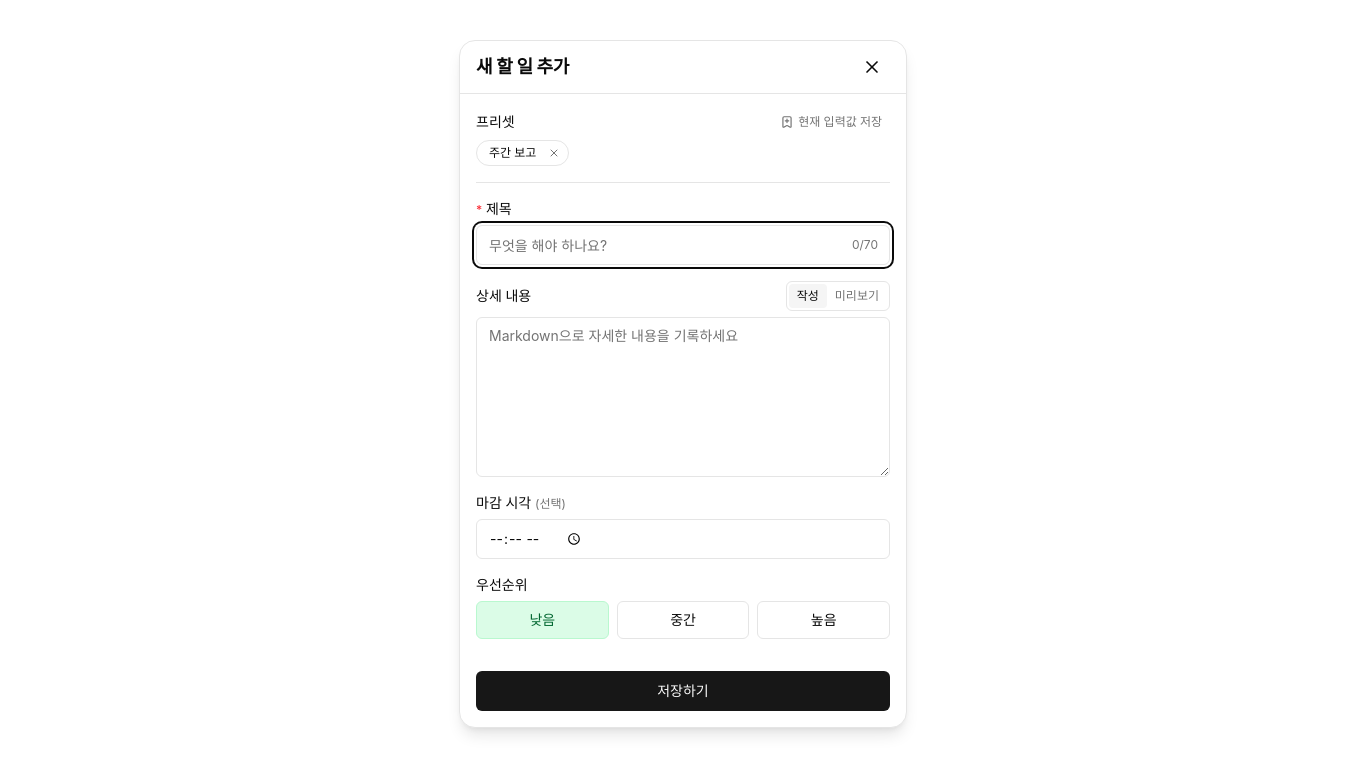
Test: TodoFormModal › 프리셋 › 프리셋을 선택하면 제목·내용이 채워진다
Click the button with test id "preset-chip".
click(511, 153)  # box [477,141,544,165]
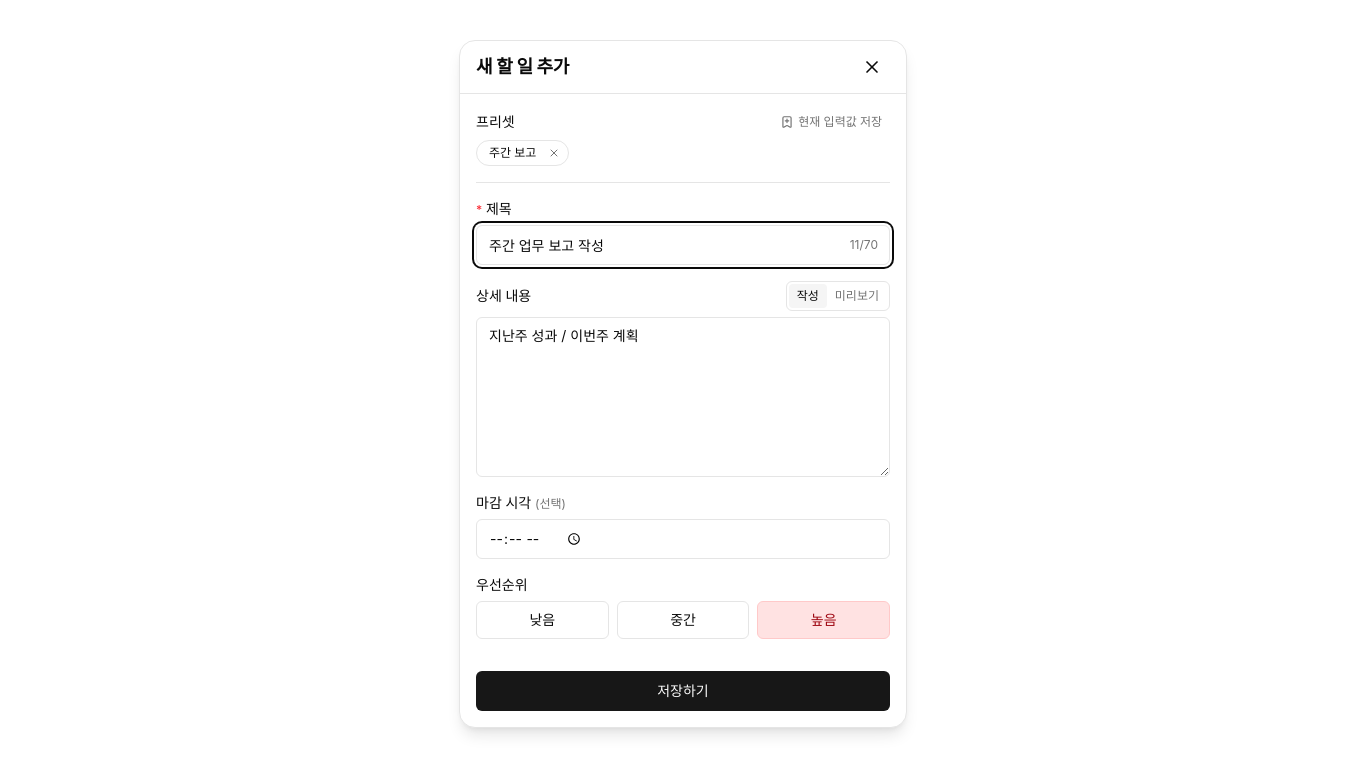
Expected: the field labelled "* 제목" holds "주간 업무 보고 작성", [476,225,890,265]
Expected: the text box labelled "상세 내용" holds "지난주 성과 / 이번주 계획", [476,317,890,477]
